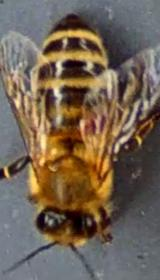varroa_mite: (64, 96, 112, 140)
